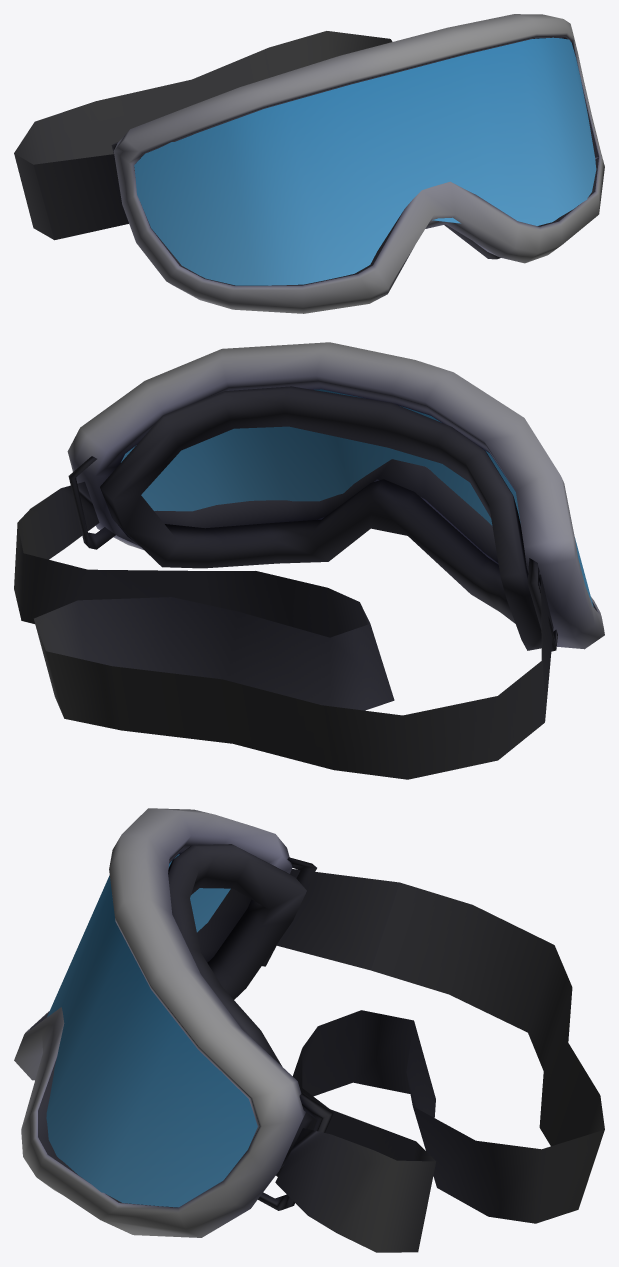
3 views of the same model, one above another, from view 1: azimuth 30°, elevation 25°; view 2: azimuth 150°, elevation 25°; view 3: azimuth 270°, elevation 25° (orthographic). The views are drawn at different scales.
Parts seen in each view (by area): view 1: DblSided.010; view 2: DblSided.010; view 3: DblSided.010.
Part boxes in pixels (x1,y1,x2,y2): DblSided.010: (14, 14, 604, 313); DblSided.010: (14, 342, 604, 779); DblSided.010: (14, 808, 604, 1252).
Size of the model in its own units: 0.5 by 0.2181 by 0.4233.
